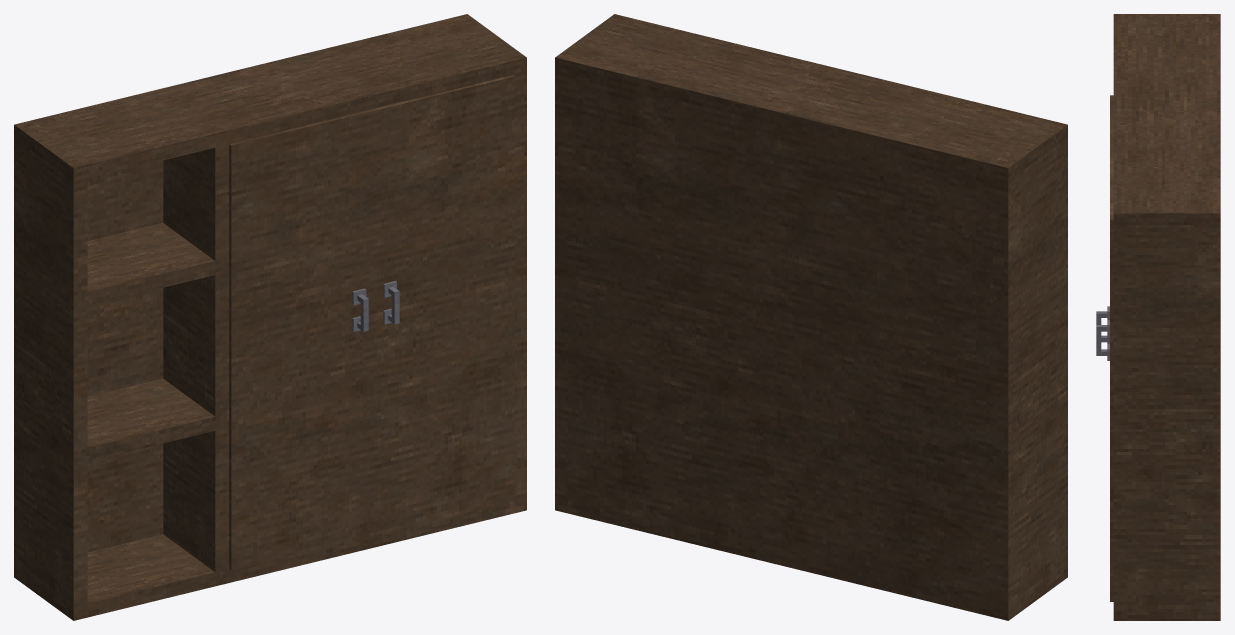
Rendered from wardrobe.glb.
The picture shows the model from 3 angles, left to right: view 1: azimuth 30°, elevation 25°; view 2: azimuth 150°, elevation 25°; view 3: azimuth 270°, elevation 25°; orthographic projection. The views are drawn at different scales.
Visible parts, largest first — view 1: Wardrobe; view 2: Wardrobe; view 3: Wardrobe.
Part boxes in pixels (x1,y1,x2,y2): Wardrobe: [14, 14, 526, 620]; Wardrobe: [555, 14, 1067, 620]; Wardrobe: [1096, 14, 1220, 620].
Size of the model in its own units: 2.2 by 2.1 by 0.58.
2 materials, 2 textured.
